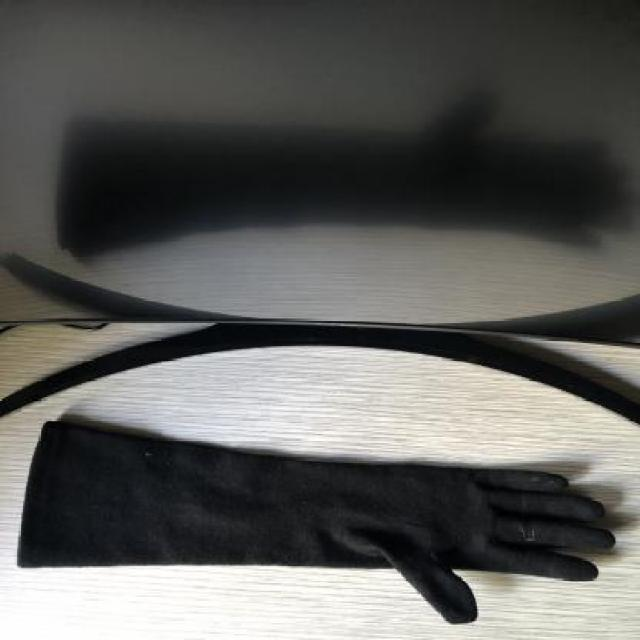Gloves: (7, 412, 617, 628)
